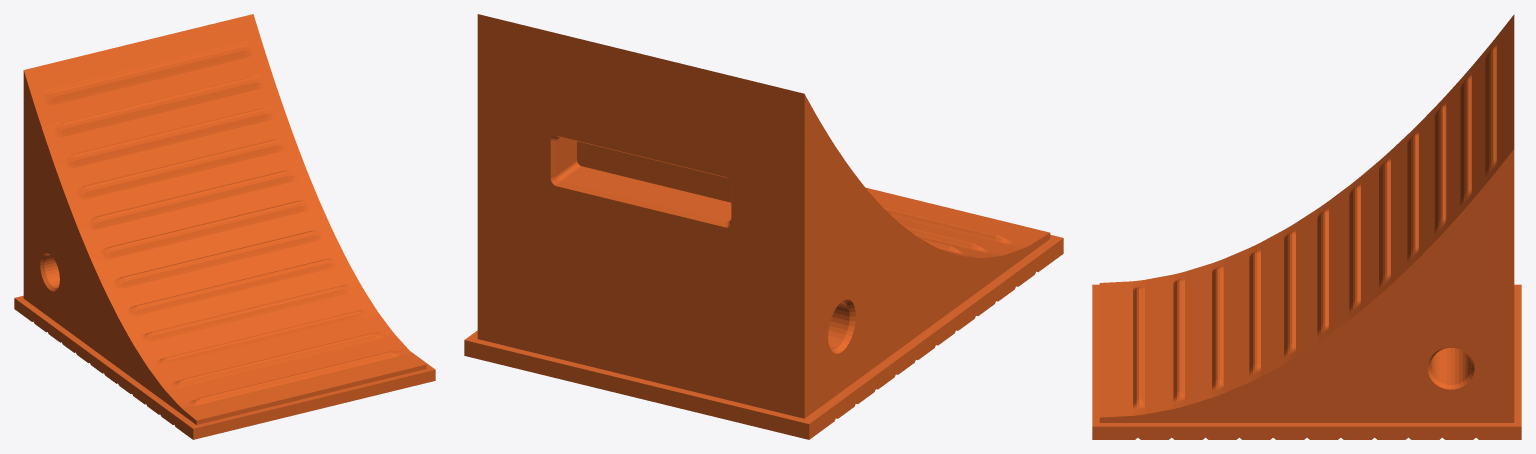
3 views of the same model, side by side, from view 1: azimuth 30°, elevation 25°; view 2: azimuth 150°, elevation 25°; view 3: azimuth 270°, elevation 25° (orthographic). The views are drawn at different scales.
Parts seen in each view (by area): view 1: Complete_single_wheel_chock; view 2: Complete_single_wheel_chock; view 3: Complete_single_wheel_chock.
Boxes of the visible parts, x1,y1,x2,y2 form: Complete_single_wheel_chock: (14, 14, 435, 439); Complete_single_wheel_chock: (464, 14, 1063, 439); Complete_single_wheel_chock: (1092, 14, 1521, 439).
Bounding box in the file's own units: 0.2286 × 0.2159 × 0.2921.
